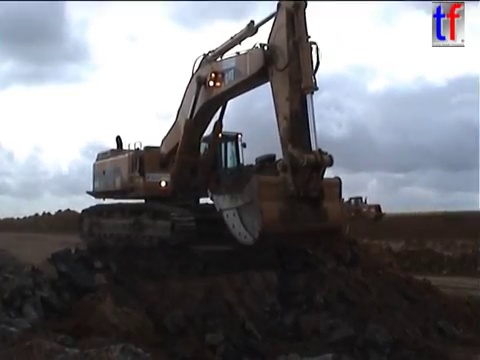excavator: (76, 1, 347, 254)
wheel loader: (312, 193, 388, 230)
